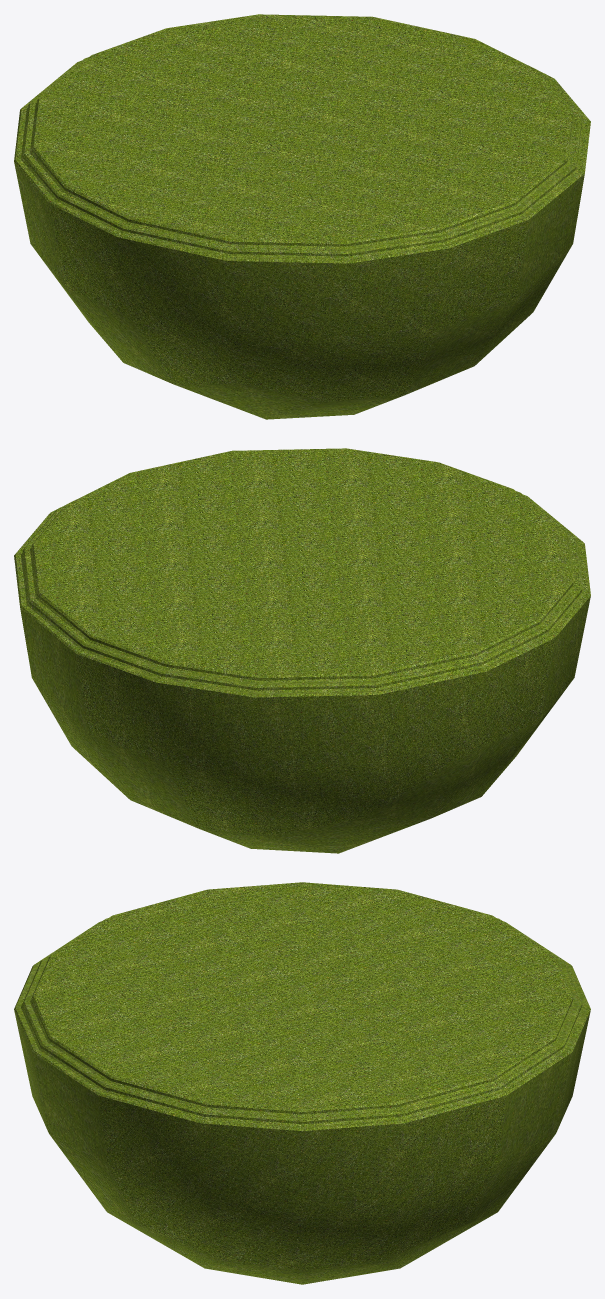
File: platform.glb
3 views of the same model, one above another, from view 1: azimuth 30°, elevation 25°; view 2: azimuth 150°, elevation 25°; view 3: azimuth 270°, elevation 25° (orthographic).
Parts seen in each view (by area): view 1: platform-col; view 2: platform-col; view 3: platform-col.
Boxes of the visible parts, x1,y1,x2,y2 form: platform-col: (14,14,590,419); platform-col: (14,448,590,853); platform-col: (14,882,590,1284).
Bounding box in the file's own units: 31.96 × 16 × 31.96.
1 material, 1 textured.
